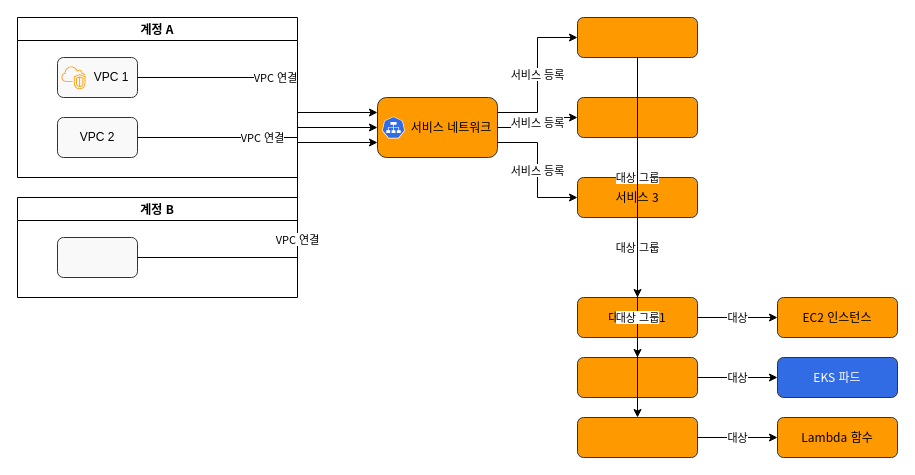
The diagram is 915 pixels wide and 475 high, and some of its shapes have lost their labels. The shapes that lost their labels are listed below. From the top down, each one's box as (x1, y1, x2, y2) in pixels, then its label:
(576, 16, 698, 58): 서비스 1
(576, 96, 698, 138): 서비스 2
(56, 236, 138, 278): VPC 3
(576, 356, 698, 398): 대상 그룹 2
(576, 416, 698, 458): 대상 그룹 3
